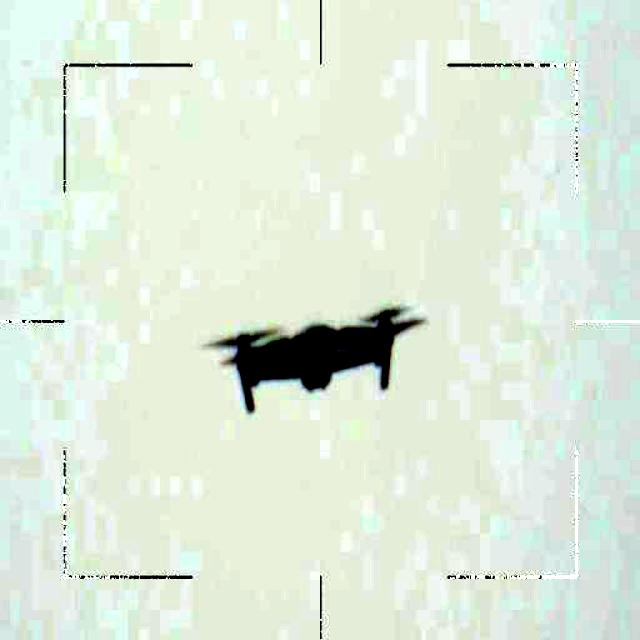bird: (191, 299, 440, 419)
